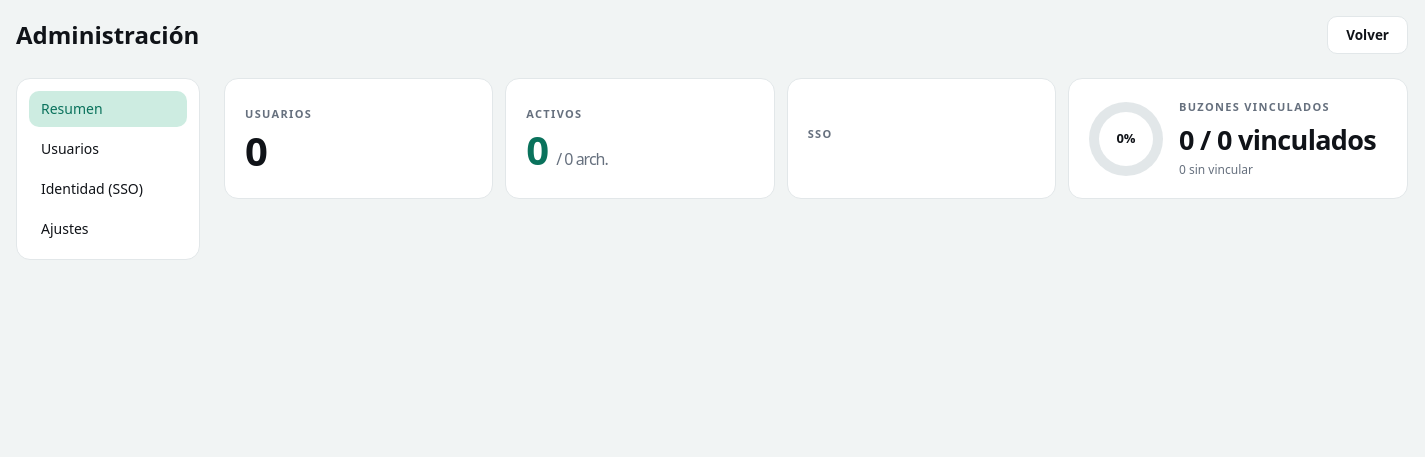
Test: AdminPage SSO config panel › shows the not-configured status when sso is not set up
The image size is (1425, 457).
Click the button "Identidad (SSO)": (108, 189) [29,171,187,207]
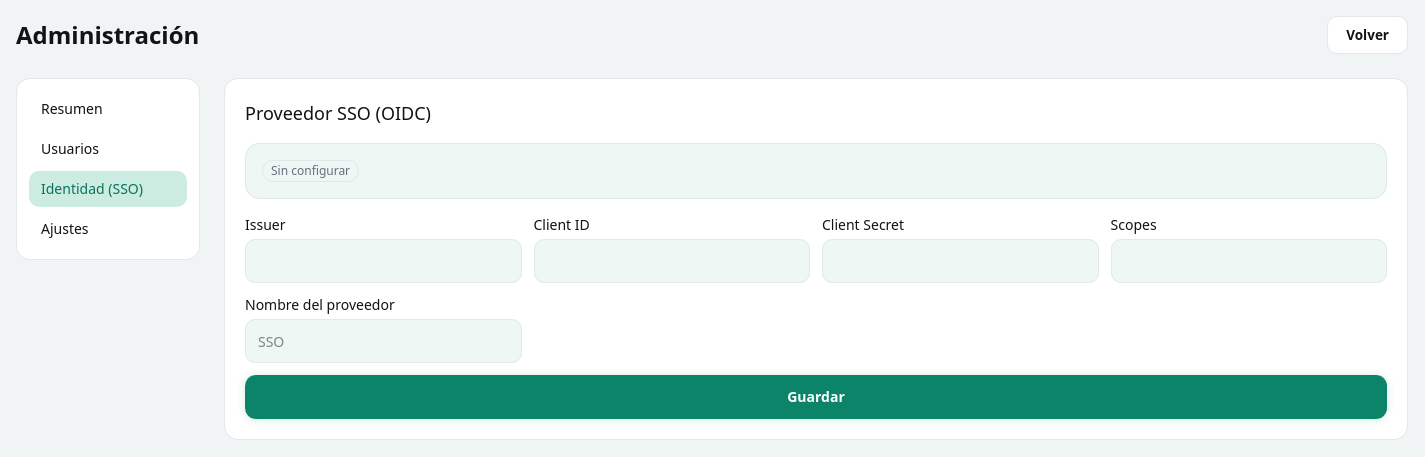
Expected: the text "Sin configurar" is shown, [262,160,359,182]
